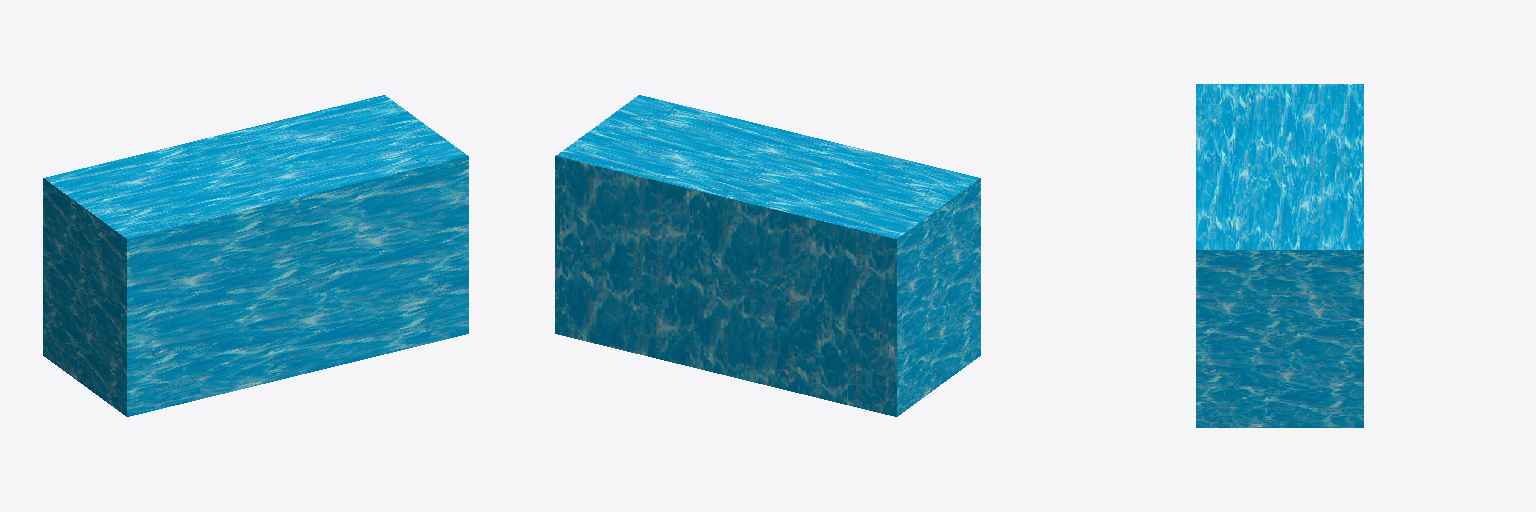
The picture shows the model from 3 angles: view 1: azimuth 30°, elevation 25°; view 2: azimuth 150°, elevation 25°; view 3: azimuth 270°, elevation 25°; orthographic projection.
Parts seen in each view (by area): view 1: aquarium-glass.002_Cube.009; view 2: aquarium-glass.002_Cube.009; view 3: aquarium-glass.002_Cube.009.
Boxes of the visible parts, <box> form: aquarium-glass.002_Cube.009: <box>43,95,468,416</box>; aquarium-glass.002_Cube.009: <box>555,95,980,416</box>; aquarium-glass.002_Cube.009: <box>1196,84,1363,427</box>.
Bounding box in the file's own units: 15.81 × 7.88 × 6.72.
1 materials, 1 textured.